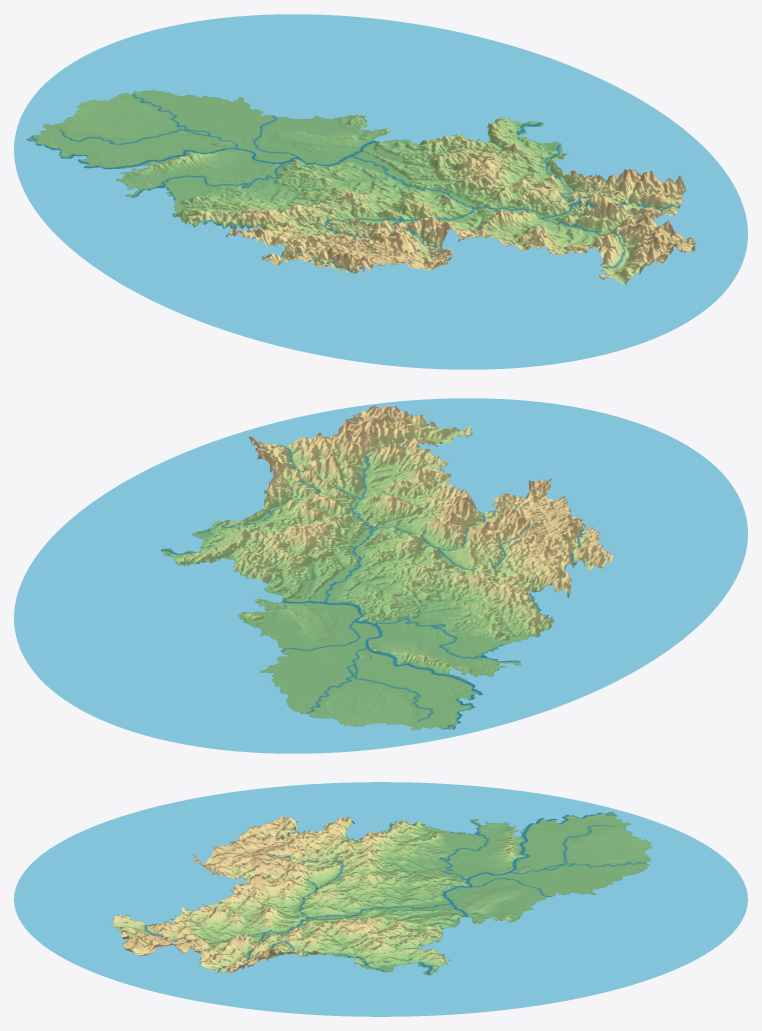
The model's file is SRB-terrain.glb.
3 views of the same model, one above another, from view 1: azimuth 30°, elevation 25°; view 2: azimuth 150°, elevation 25°; view 3: azimuth 270°, elevation 25° (orthographic). The views are drawn at different scales.
Visible parts, largest first — view 1: Relevo com hidrografia; view 2: Relevo com hidrografia; view 3: Relevo com hidrografia.
Boxes of the visible parts, left/top/right/bottom form: Relevo com hidrografia: left=14, top=14, right=747, bottom=369; Relevo com hidrografia: left=14, top=398, right=747, bottom=753; Relevo com hidrografia: left=14, top=782, right=747, bottom=1016.
Bounding box in the file's own units: 1.65 × 0.0788 × 2.18.
2 materials, 1 textured.
